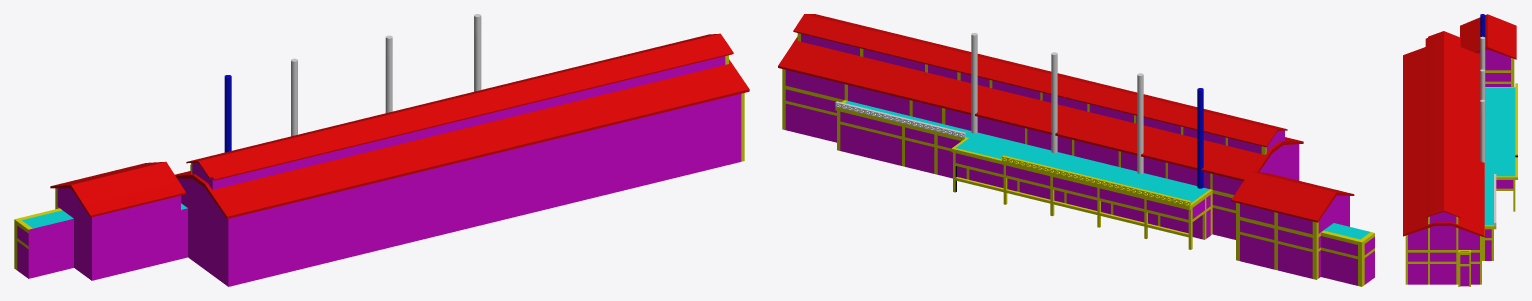
Rendered from openHearthFurnace.fbx.
3 views of the same model, side by side, from view 1: azimuth 30°, elevation 25°; view 2: azimuth 150°, elevation 25°; view 3: azimuth 270°, elevation 25° (orthographic). The views are drawn at different scales.
Visible parts, largest first — view 1: openHearth_mill, openHearth_smokeStack_03, openHearth_smokeStack_01, openHearth_smokeStack_04, openHearth_smokeStack_02; view 2: openHearth_mill, openHearth_smokeStack_01, openHearth_smokeStack_04, openHearth_smokeStack_03, openHearth_smokeStack_02; view 3: openHearth_mill, openHearth_smokeStack_04, openHearth_smokeStack_02, openHearth_smokeStack_03, openHearth_smokeStack_01.
Part boxes in pixels (x1,y1,x2,y2): openHearth_mill: (14, 33, 749, 286); openHearth_smokeStack_03: (385, 35, 392, 112); openHearth_smokeStack_01: (224, 75, 231, 152); openHearth_smokeStack_04: (474, 14, 481, 91); openHearth_smokeStack_02: (291, 58, 297, 136); openHearth_mill: (778, 14, 1374, 286); openHearth_smokeStack_01: (1197, 88, 1203, 188); openHearth_smokeStack_04: (971, 32, 977, 133); openHearth_smokeStack_03: (1051, 52, 1057, 152); openHearth_smokeStack_02: (1137, 73, 1143, 173); openHearth_mill: (1403, 14, 1517, 286); openHearth_smokeStack_04: (1480, 99, 1485, 177); openHearth_smokeStack_02: (1480, 36, 1485, 69); openHearth_smokeStack_03: (1480, 69, 1485, 100); openHearth_smokeStack_01: (1480, 14, 1485, 37).
Bounding box in the file's own units: 21565 × 4877 × 4577.
